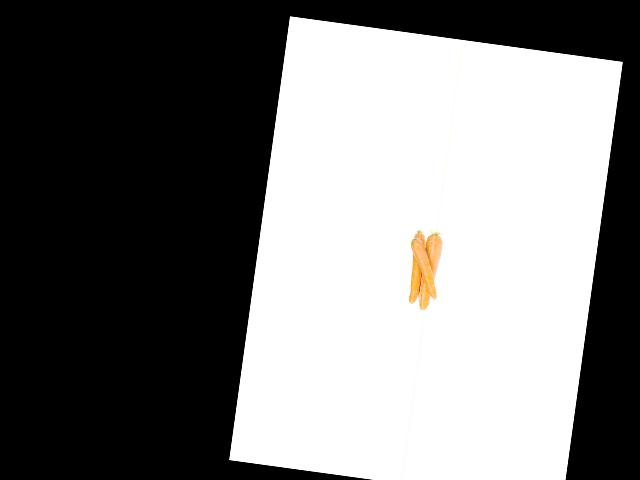carrot: (418, 230, 444, 314)
